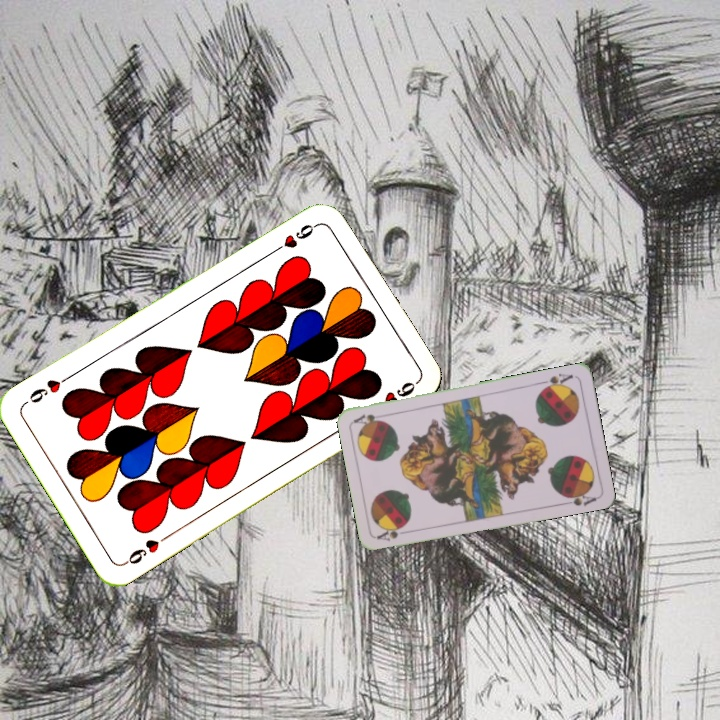H9: (267, 219, 321, 257), (119, 530, 172, 568)
SA: (536, 369, 576, 393), (373, 522, 414, 544)
